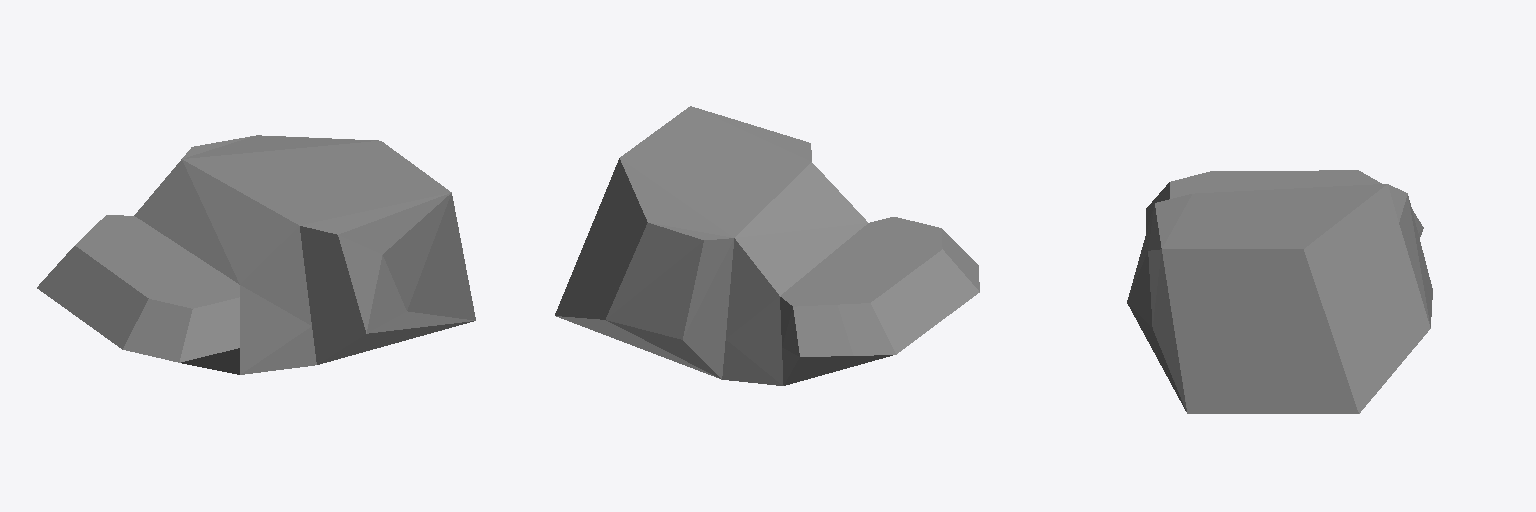
Rendered from stone_little_03.obj.
3 views of the same model, side by side, from view 1: azimuth 30°, elevation 25°; view 2: azimuth 150°, elevation 25°; view 3: azimuth 270°, elevation 25° (orthographic).
Size of the model in its own units: 0.6 by 0.2419 by 0.4573.